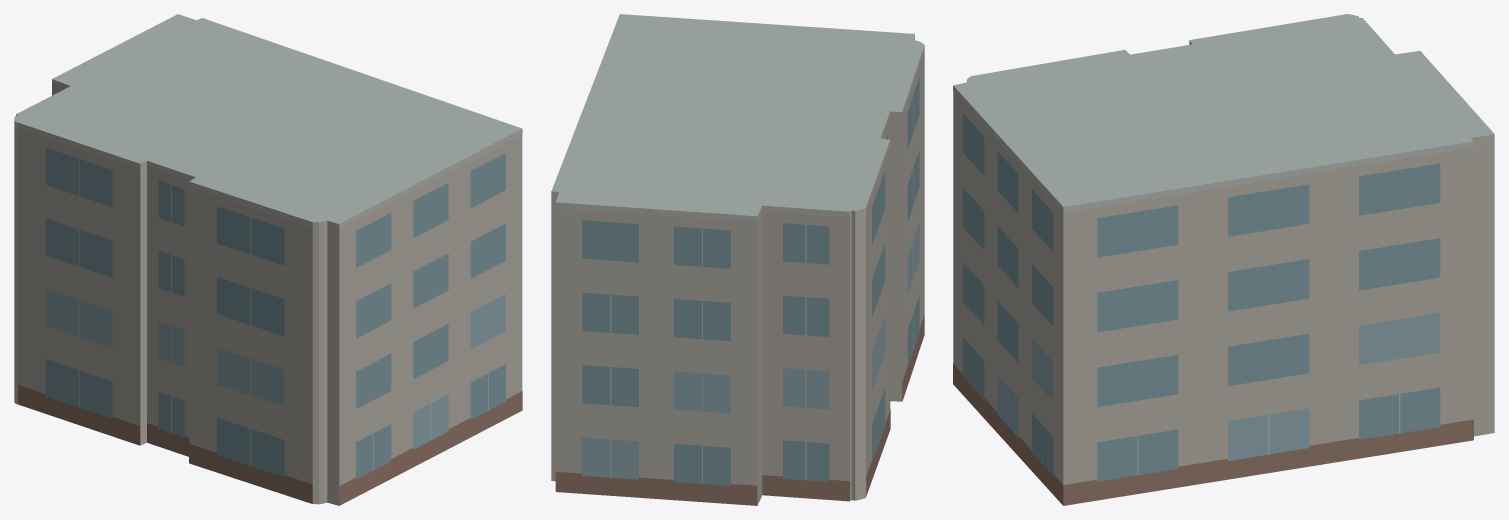
Rendered from survey-upis-32840377.glb.
3 renders of one model, left to right at view 1: azimuth 30°, elevation 25°; view 2: azimuth 150°, elevation 25°; view 3: azimuth 270°, elevation 25°, orthographic. The views are drawn at different scales.
Visible parts, largest first — view 1: survey-upis-32840377.tmp; view 2: survey-upis-32840377.tmp; view 3: survey-upis-32840377.tmp.
Part boxes in pixels (left/top/right/bottom): survey-upis-32840377.tmp: left=14, top=14, right=522, bottom=505; survey-upis-32840377.tmp: left=551, top=14, right=924, bottom=505; survey-upis-32840377.tmp: left=953, top=14, right=1494, bottom=505.
Size of the model in its own units: 16.98 by 12.25 by 20.13.
